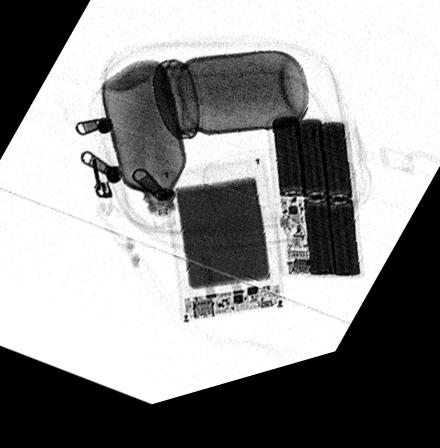Powerbank: (160, 173, 286, 332), (262, 127, 365, 300)
